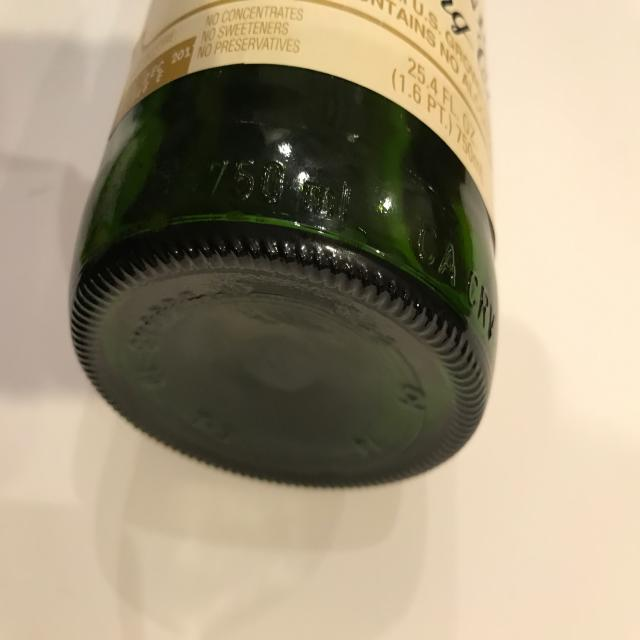Glass: (65, 0, 507, 496)
